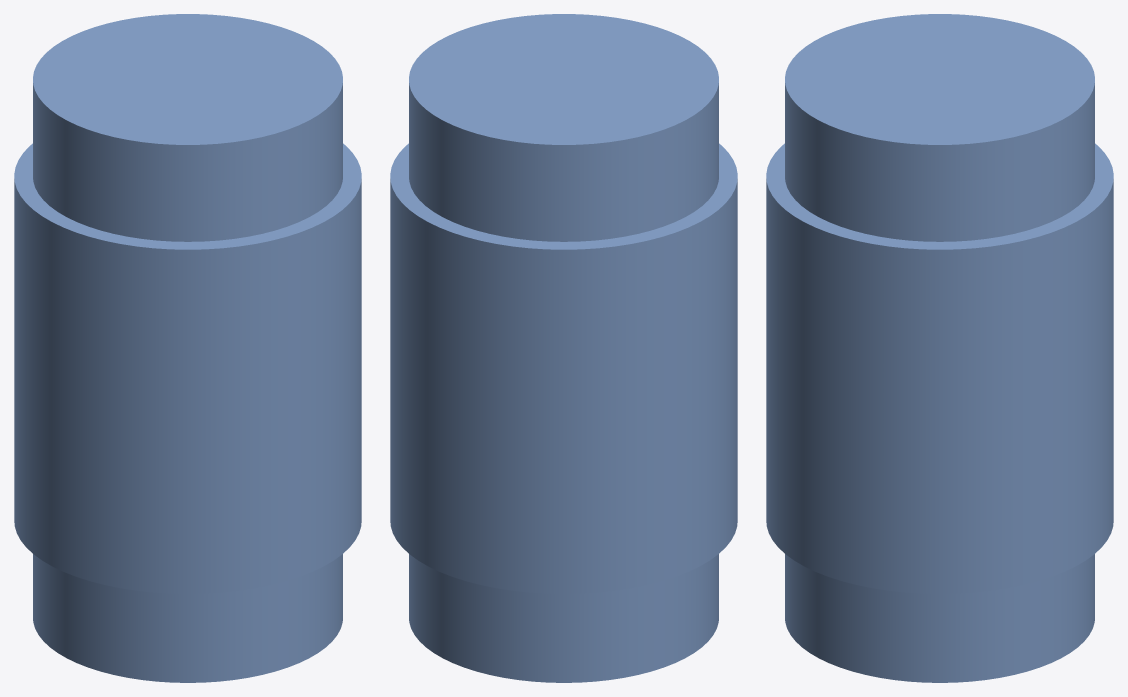
File: step_21.glb
The picture shows the model from 3 angles, left to right: view 1: azimuth 30°, elevation 25°; view 2: azimuth 150°, elevation 25°; view 3: azimuth 270°, elevation 25°; orthographic projection.
Visible parts, largest first — view 1: part__8" gate valve body GV-101; view 2: part__8" gate valve body GV-101; view 3: part__8" gate valve body GV-101.
Boxes of the visible parts, x1,y1,x2,y2 form: part__8" gate valve body GV-101: (14,14,361,682); part__8" gate valve body GV-101: (390,14,737,682); part__8" gate valve body GV-101: (766,14,1113,682).
Size of the model in its own units: 245 by 419 by 245.
